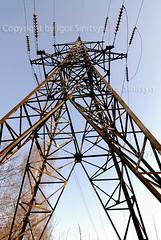power_tower: (0, 30, 161, 240)
